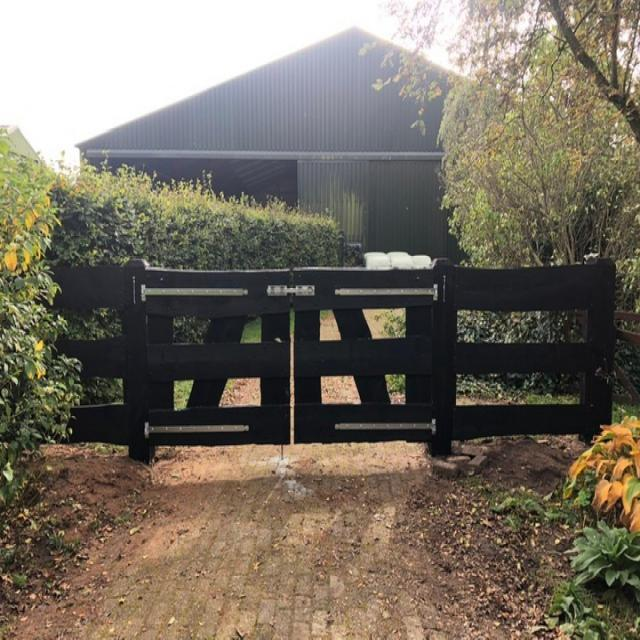fence line: (109, 243, 591, 465)
